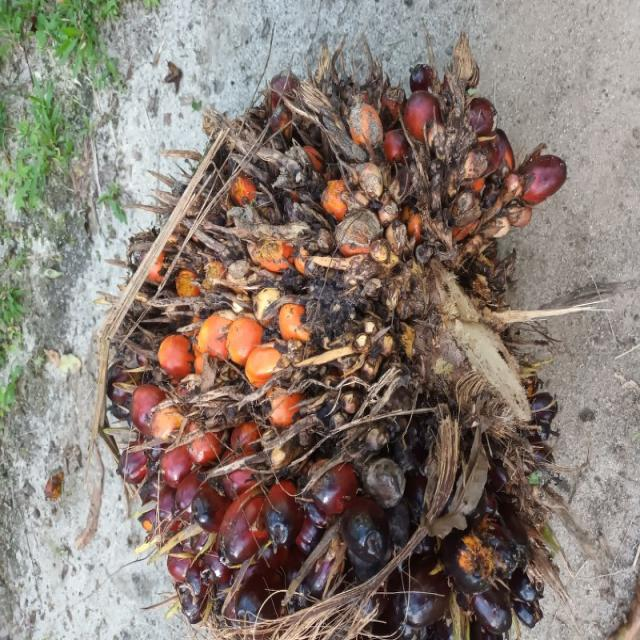fraksi 1: (0, 0, 474, 640)
